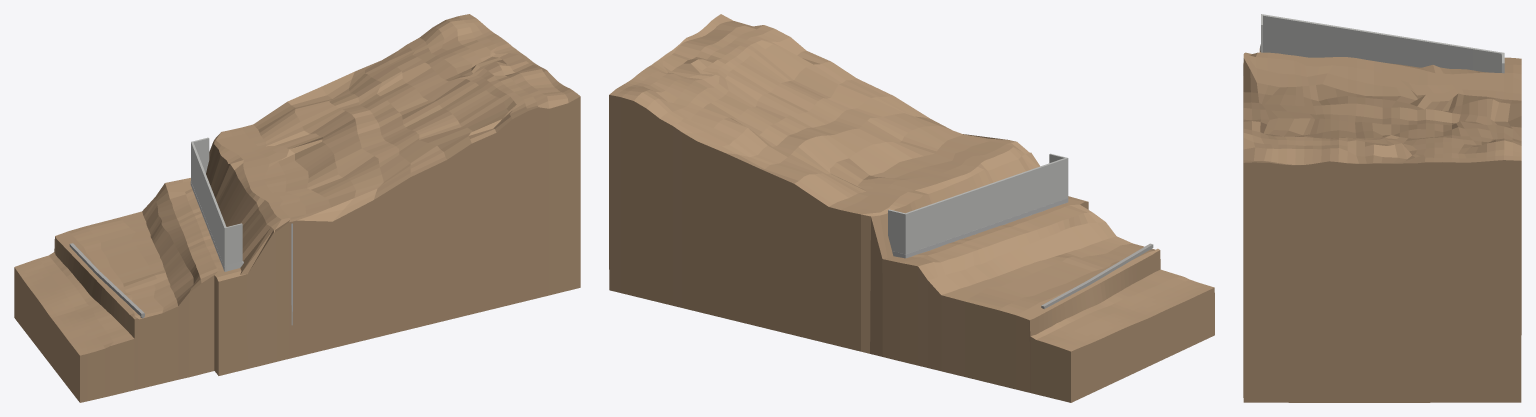
Rendered from cb1_spw5_rtw1.glb.
3 views of the same model, side by side, from view 1: azimuth 30°, elevation 25°; view 2: azimuth 150°, elevation 25°; view 3: azimuth 270°, elevation 25° (orthographic). The views are drawn at different scales.
Parts seen in each view (by area): view 1: Terrain 03 - SPW5 +6.002, RTW1, Cube.123; view 2: Terrain 03 - SPW5 +6.002, RTW1, CB1, Cube.123; view 3: Terrain 03 - SPW5 +6.002, RTW1.
Boxes of the visible parts, x1=… form: Terrain 03 - SPW5 +6.002: x1=14, y1=14, x2=580, y2=402; RTW1: x1=191, y1=137, x2=242, y2=271; Cube.123: x1=69, y1=243, x2=144, y2=317; Terrain 03 - SPW5 +6.002: x1=609, y1=14, x2=1214, y2=402; RTW1: x1=888, y1=153, x2=1068, y2=257; CB1: x1=892, y1=198, x2=1068, y2=258; Cube.123: x1=1041, y1=243, x2=1153, y2=308; Terrain 03 - SPW5 +6.002: x1=1243, y1=48, x2=1521, y2=402; RTW1: x1=1261, y1=14, x2=1504, y2=73.
Bounding box in the file's own units: 45.79 × 17.39 × 17.83.
